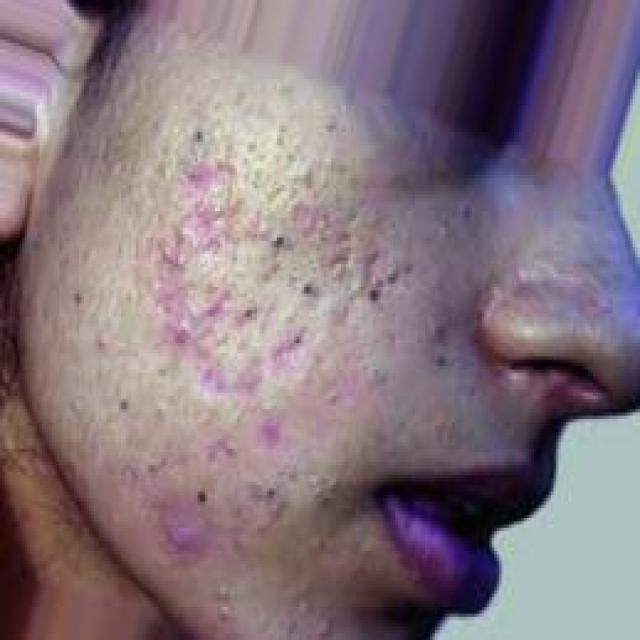acne: (163, 507, 211, 557), (162, 226, 197, 284), (164, 306, 204, 352), (208, 573, 238, 624), (312, 474, 346, 515), (312, 188, 334, 248), (258, 418, 286, 465), (233, 362, 265, 398), (296, 158, 324, 198), (429, 216, 455, 259), (179, 158, 224, 182), (144, 393, 176, 426)
